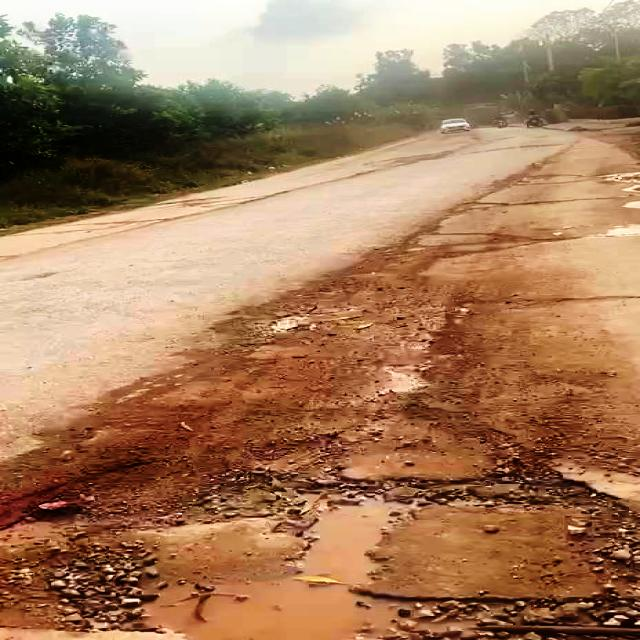pothole: (76, 458, 640, 640)
